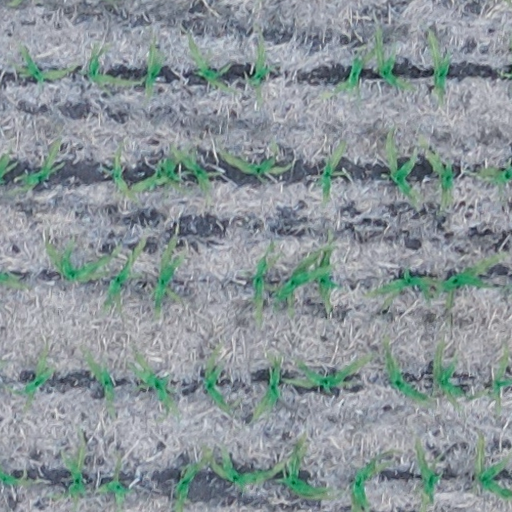planta: (273, 234, 337, 315), (432, 252, 505, 306), (283, 351, 375, 392), (278, 434, 333, 498), (85, 42, 142, 98), (46, 239, 119, 281), (383, 338, 430, 403), (211, 447, 286, 487), (13, 345, 58, 411), (220, 138, 293, 178), (150, 233, 185, 316), (128, 146, 187, 195), (168, 145, 224, 196), (129, 351, 176, 411), (370, 24, 412, 90), (418, 134, 454, 210), (105, 239, 145, 305), (191, 35, 235, 94), (322, 48, 375, 96), (12, 43, 74, 84), (311, 233, 342, 312), (384, 129, 417, 201), (364, 267, 436, 300), (249, 243, 278, 324), (432, 338, 465, 409), (17, 138, 61, 191), (83, 348, 116, 417), (245, 40, 275, 107), (426, 29, 452, 105), (202, 344, 231, 412), (318, 140, 348, 204), (251, 356, 280, 421), (61, 432, 86, 498), (141, 39, 165, 105), (110, 146, 130, 195)
